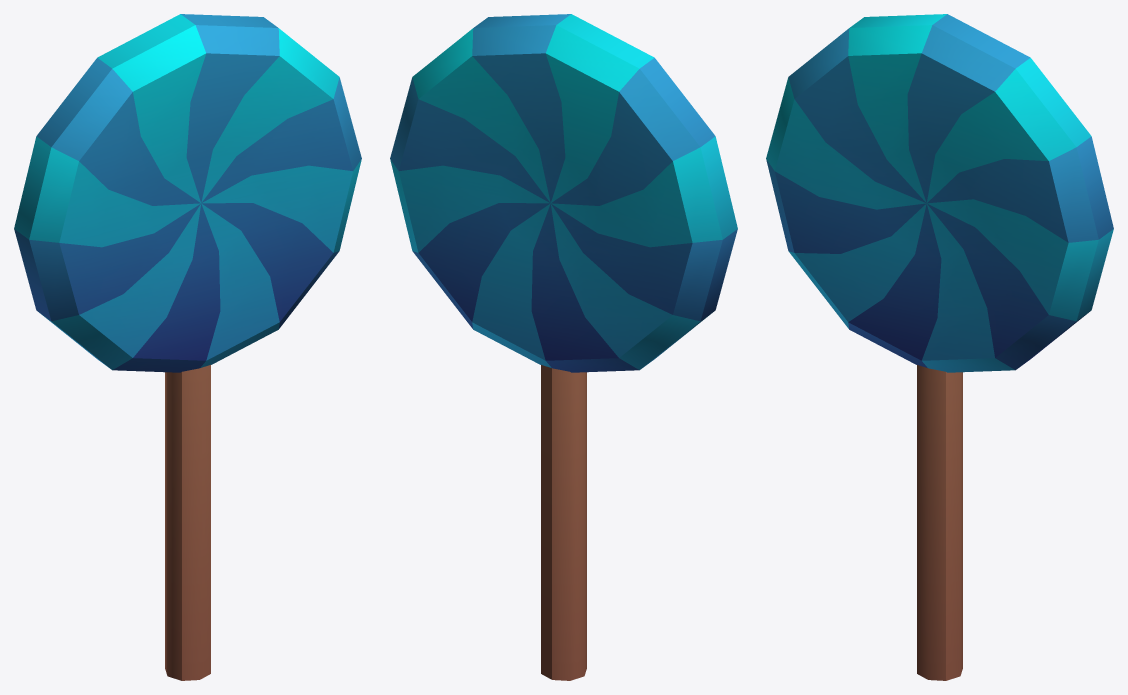
The model's file is lollipop_blue.gltf.
3 renders of one model, left to right at view 1: azimuth 30°, elevation 25°; view 2: azimuth 150°, elevation 25°; view 3: azimuth 330°, elevation 25°, orthographic.
Parts seen in each view (by area): view 1: lollipop_blue; view 2: lollipop_blue; view 3: lollipop_blue.
Part boxes in pixels (x1,y1,x2,y2): lollipop_blue: [14, 14, 361, 680]; lollipop_blue: [390, 14, 737, 680]; lollipop_blue: [766, 14, 1113, 680].
Size of the model in its own units: 0.65 by 1.23 by 0.1239.
1 material, 1 textured.
